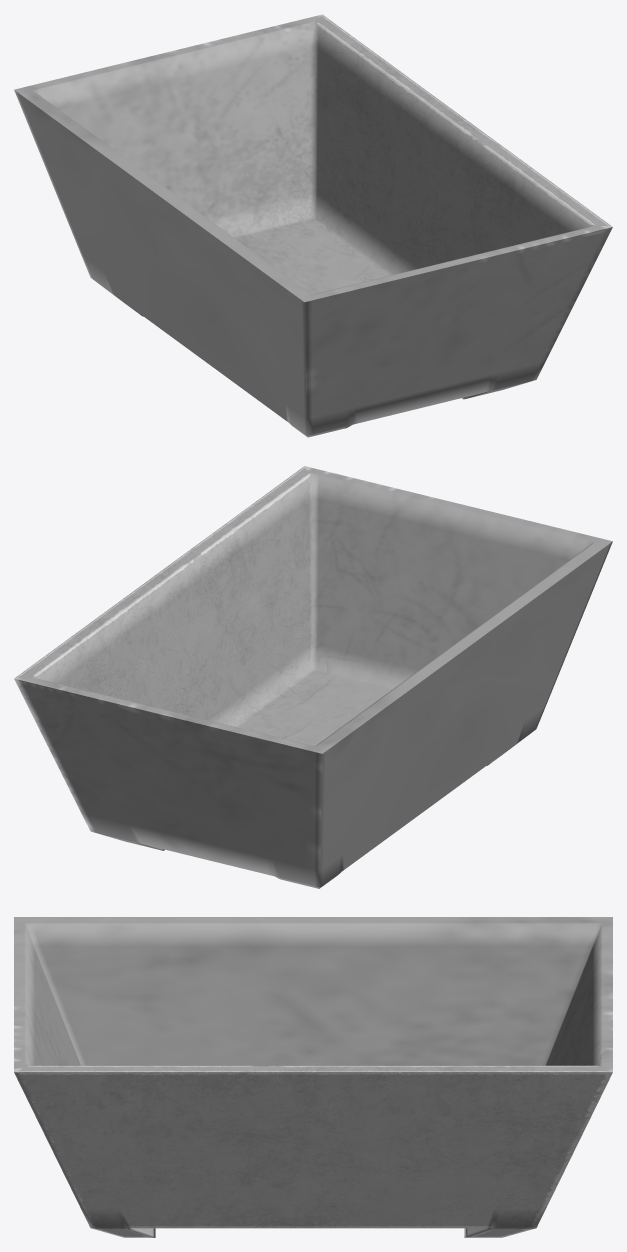
File: bath (1).fbx
3 views of the same model, one above another, from view 1: azimuth 30°, elevation 25°; view 2: azimuth 150°, elevation 25°; view 3: azimuth 270°, elevation 25° (orthographic). The views are drawn at different scales.
Visible parts, largest first — view 1: Cube.003; view 2: Cube.003; view 3: Cube.003.
Part boxes in pixels (bbox=[...]): Cube.003: bbox=[14, 14, 612, 437]; Cube.003: bbox=[14, 466, 612, 888]; Cube.003: bbox=[14, 917, 612, 1237].
Size of the model in its own units: 104 by 60.56 by 169.
1 material, 1 textured.
